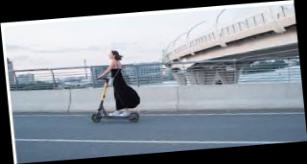nonhelmet: (83, 46, 144, 126)
